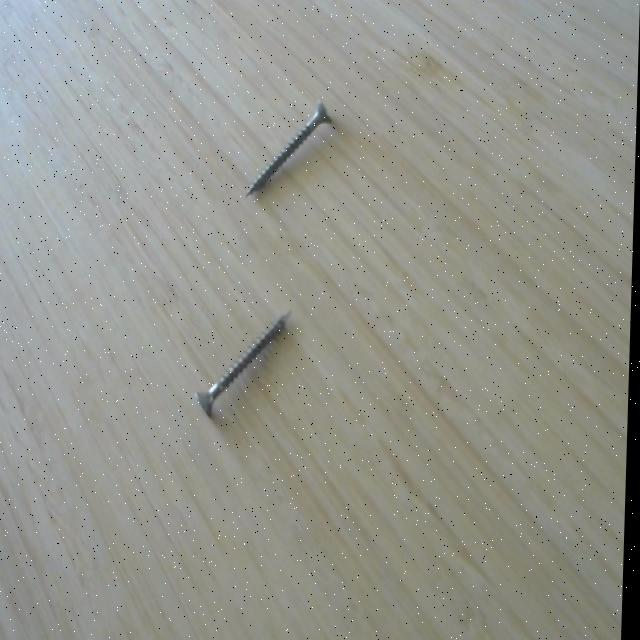Black screw: (197, 306, 295, 426), (244, 96, 340, 201)
